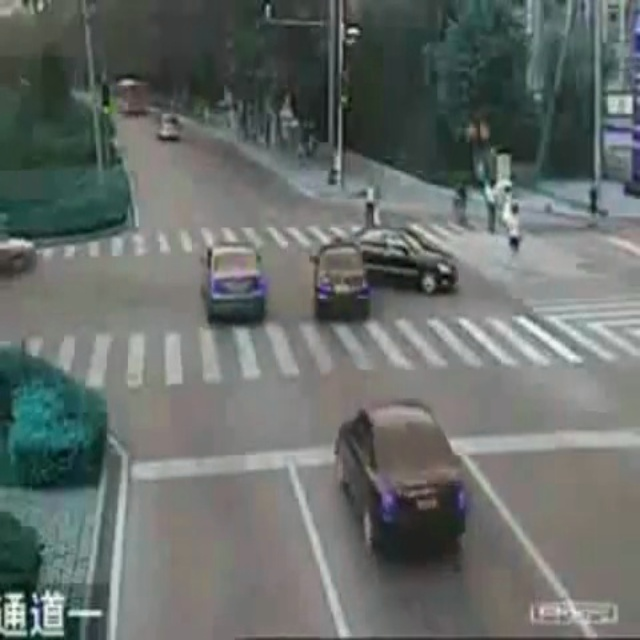acc: (311, 221, 461, 323)
